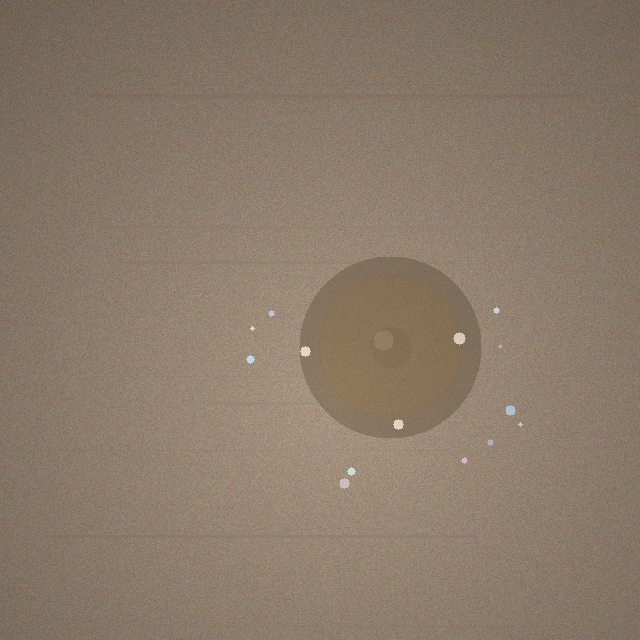overburn: (299, 256, 481, 438)
